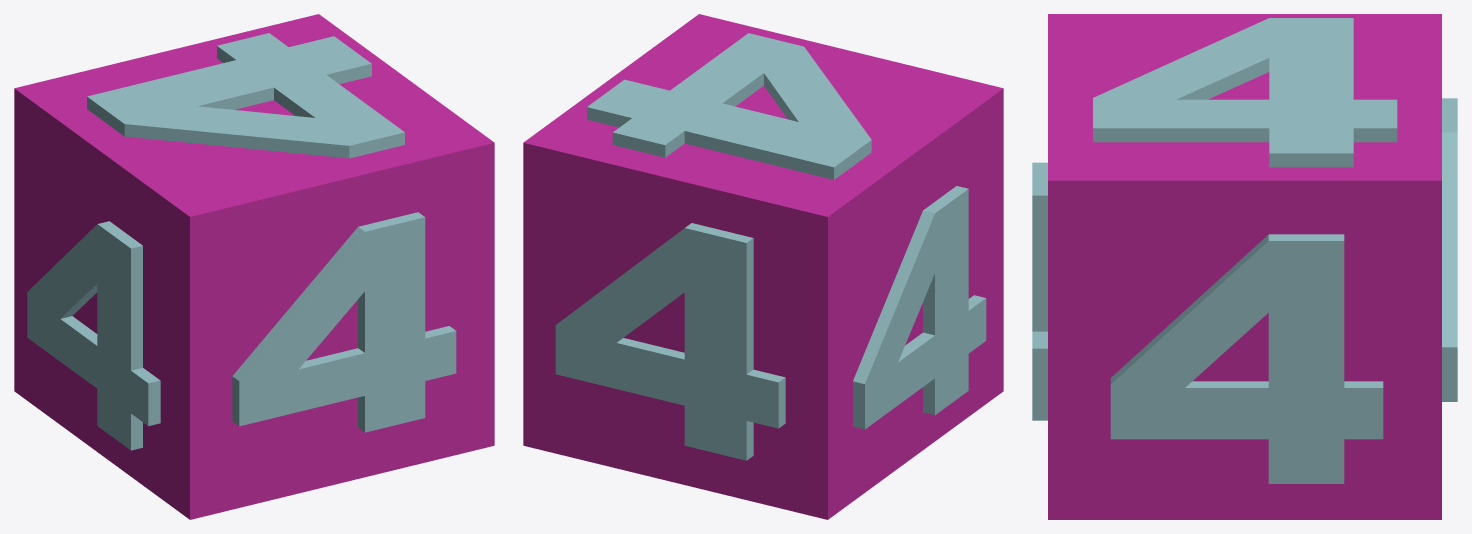
File: number4.glb
The picture shows the model from 3 angles, left to right: view 1: azimuth 30°, elevation 25°; view 2: azimuth 150°, elevation 25°; view 3: azimuth 270°, elevation 25°; orthographic projection. The views are drawn at different scales.
Parts seen in each view (by area): view 1: Mesh_Mesh_head_geo.001_lambert2SG.001; view 2: Mesh_Mesh_head_geo.001_lambert2SG.001; view 3: Mesh_Mesh_head_geo.001_lambert2SG.001.
Boxes of the visible parts, bbox=[...] form: Mesh_Mesh_head_geo.001_lambert2SG.001: bbox=[14, 14, 494, 519]; Mesh_Mesh_head_geo.001_lambert2SG.001: bbox=[523, 14, 1003, 519]; Mesh_Mesh_head_geo.001_lambert2SG.001: bbox=[1032, 14, 1457, 519].
Bounding box in the file's own units: 0.109 × 0.1 × 0.109.
